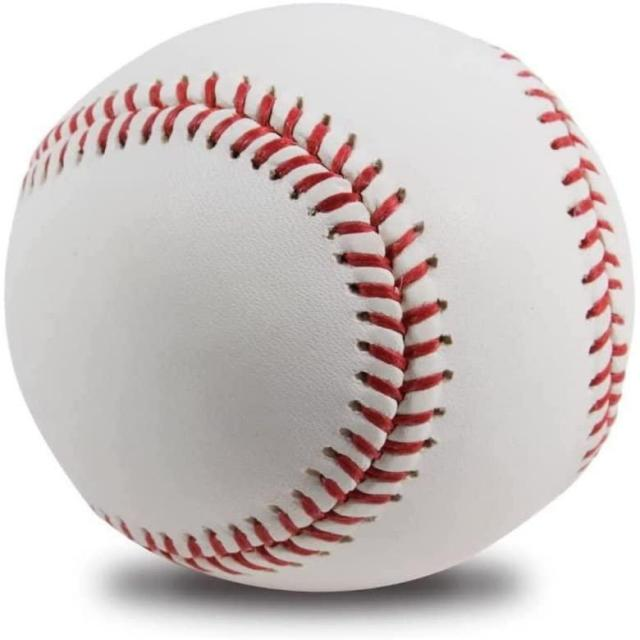baseball: (5, 2, 638, 592)
